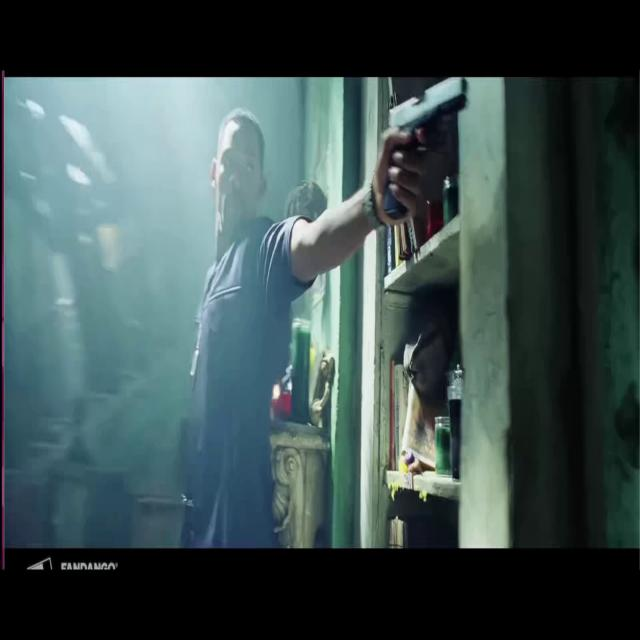weapons: (371, 80, 491, 227)
